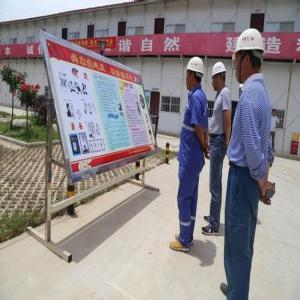white: (234, 28, 266, 91), (186, 55, 205, 94), (212, 61, 228, 95)
